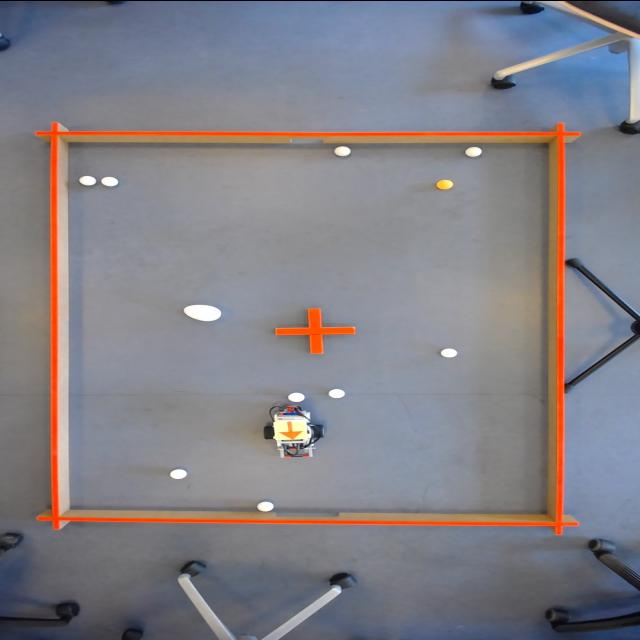cross: (273, 306, 358, 355)
egg: (179, 302, 224, 322)
orange_ball: (433, 178, 458, 190)
robot: (272, 418, 314, 440)
white_ball: (251, 499, 277, 512), (438, 344, 462, 358), (331, 142, 355, 156), (98, 172, 122, 186), (324, 387, 349, 399), (74, 174, 98, 186), (461, 146, 484, 158), (284, 391, 309, 402), (167, 466, 189, 478)
